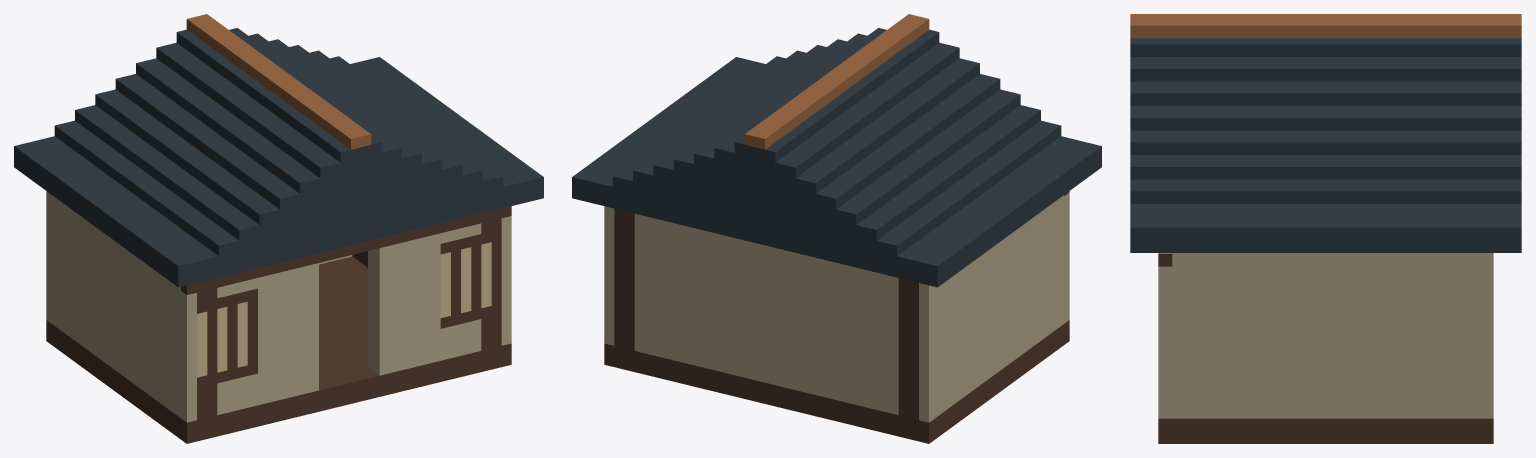
Rendered from house.glb.
The picture shows the model from 3 angles, left to right: view 1: azimuth 30°, elevation 25°; view 2: azimuth 150°, elevation 25°; view 3: azimuth 270°, elevation 25°; orthographic projection. The views are drawn at different scales.
Parts seen in each view (by area): view 1: Shell; view 2: Shell; view 3: Shell.
Boxes of the visible parts, x1,y1,x2,y2 form: Shell: (14,14,543,443); Shell: (572,14,1101,443); Shell: (1130,14,1521,443).
Size of the model in its own units: 4.5 by 3.25 by 3.5.
